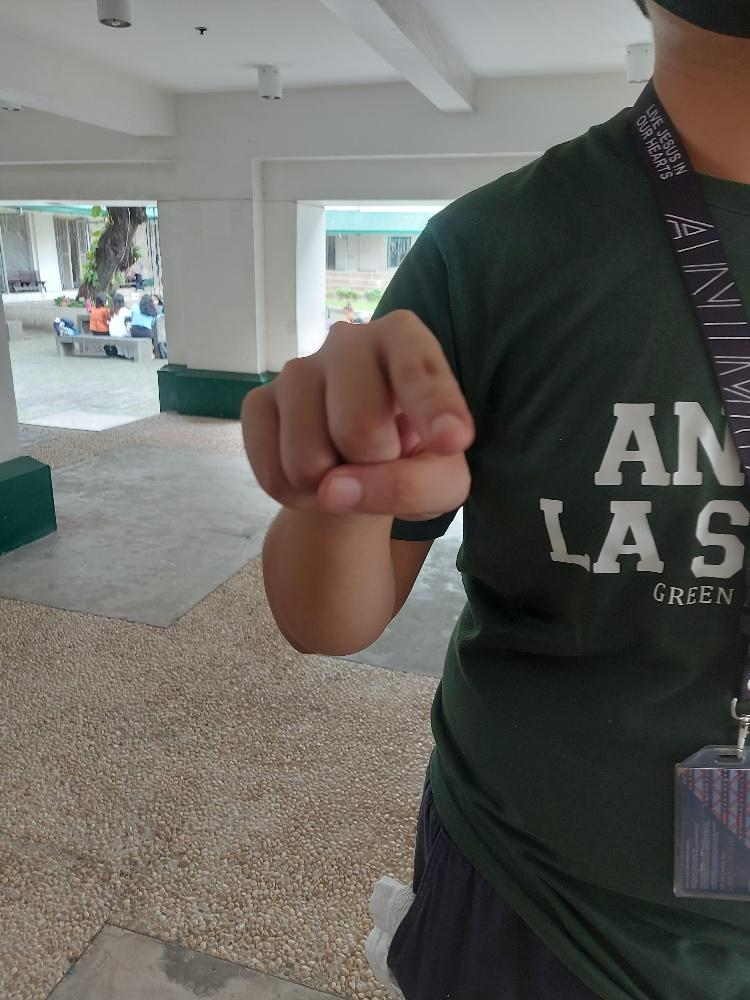z: (237, 301, 477, 524)
